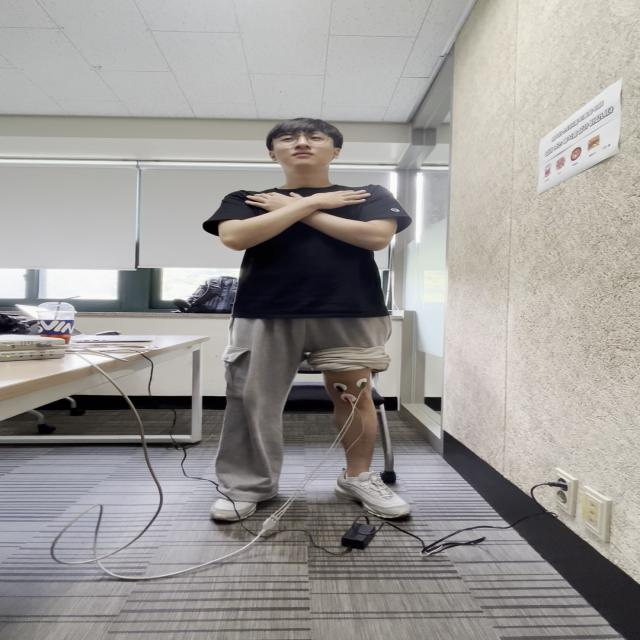stand: (217, 188, 396, 428), (316, 314, 415, 519), (215, 305, 374, 421), (207, 310, 292, 521)
